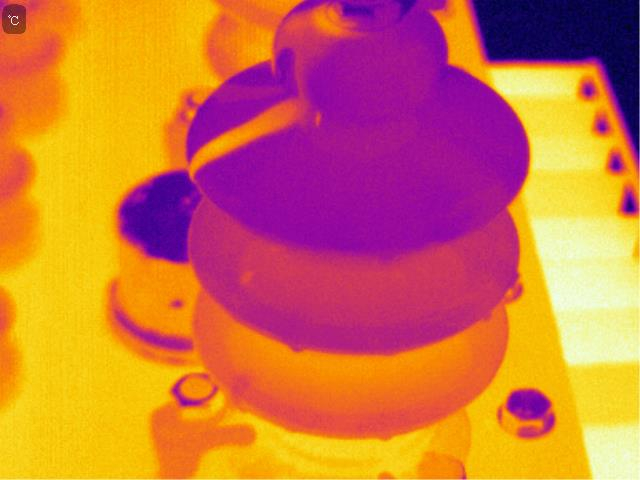Oil: (228, 83, 318, 177), (276, 5, 361, 84), (231, 241, 291, 299), (190, 127, 247, 181), (369, 422, 403, 446), (283, 333, 310, 362)
